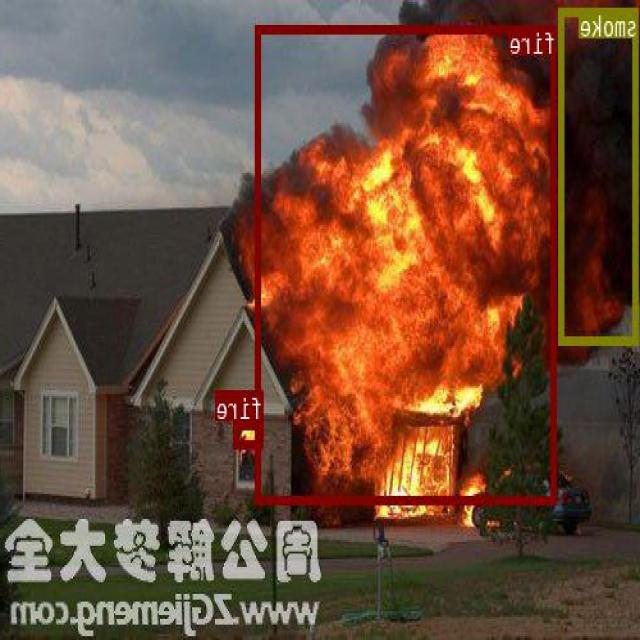fire: (256, 24, 557, 503), (234, 420, 264, 447)
smoke: (560, 6, 640, 342)
